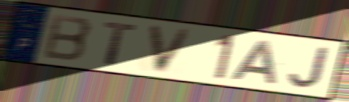1: (213, 33, 236, 81)
A: (228, 40, 279, 86)
B: (41, 12, 95, 63)
J: (286, 45, 332, 90)
T: (102, 20, 140, 67)
V: (146, 22, 195, 76)
